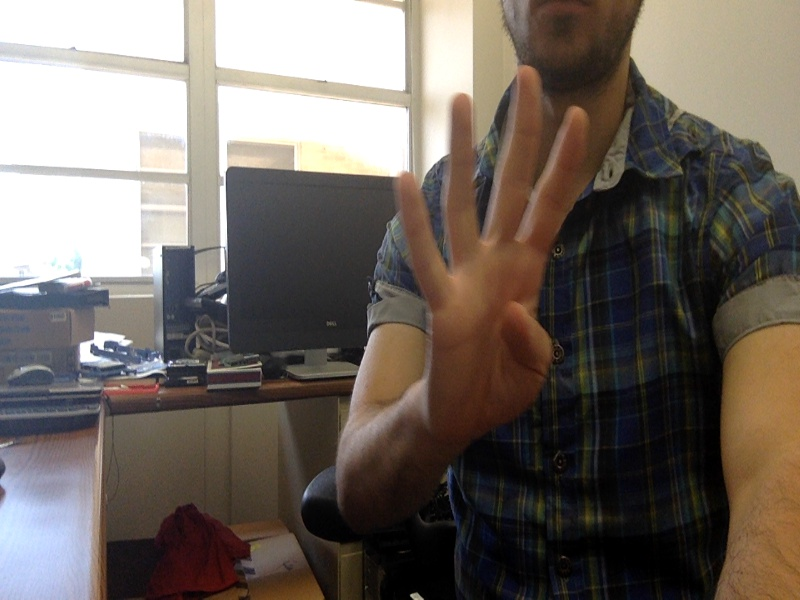4-hand: (386, 63, 589, 451)
